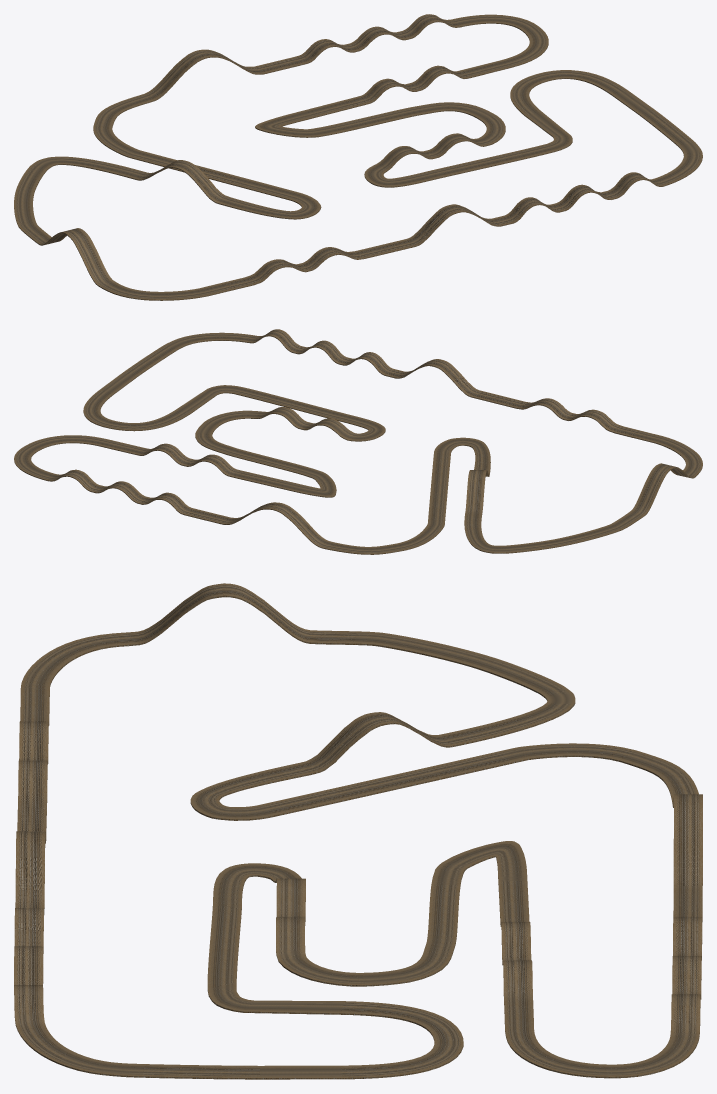
File: second.fbx
The picture shows the model from 3 angles, top to bottom: view 1: azimuth 30°, elevation 25°; view 2: azimuth 150°, elevation 25°; view 3: azimuth 270°, elevation 25°; orthographic projection. The views are drawn at different scales.
Visible parts, largest first — view 1: beveledSurface6; view 2: beveledSurface6; view 3: beveledSurface6.
Part boxes in pixels (x1,y1,x2,y2): beveledSurface6: [14, 14, 702, 300]; beveledSurface6: [14, 329, 702, 554]; beveledSurface6: [14, 583, 702, 1079].
Bounding box in the file's own units: 66.61 × 3.35 × 43.3.
1 material, 1 textured.
